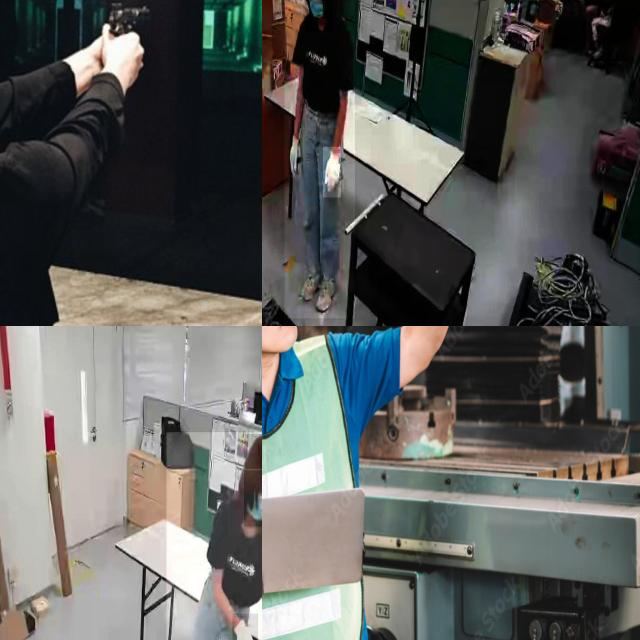face_mask: (244, 470, 262, 526), (304, 0, 332, 32)
hand_glove: (323, 147, 341, 198), (288, 129, 304, 176), (232, 613, 258, 640)
head_nohelmet: (244, 434, 262, 469)
person: (284, 0, 355, 319), (166, 432, 262, 640)
shoes: (316, 271, 340, 314), (299, 269, 323, 304)
